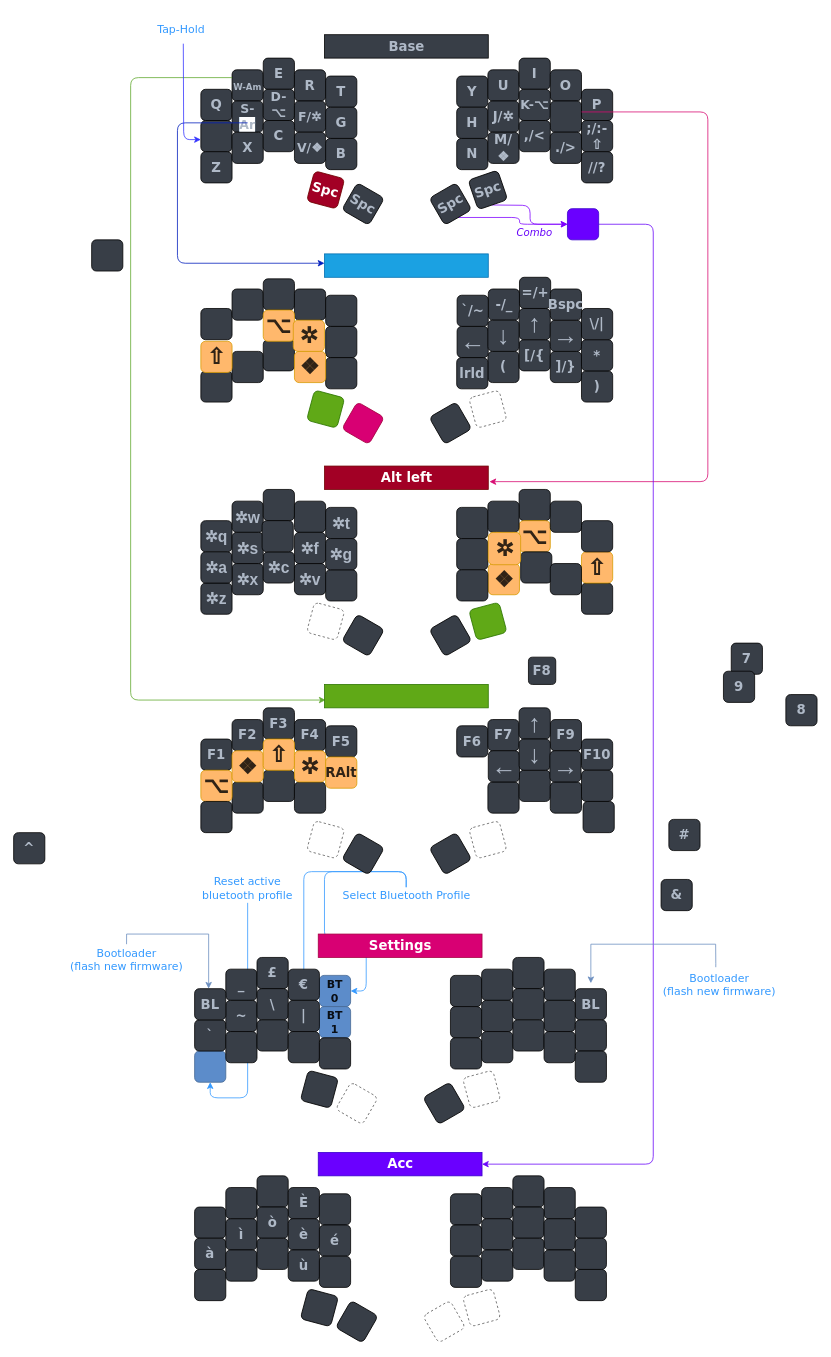
Image size: 831x1357. Some labels were removed from this diagram. The centre of each missing label's shape, as x and y in pixels:
A- ⇧: (216,136)
Alt mouse: (406,696)
Alt right: (406,265)
BT RES: (210,1066)
L-Al: (565,116)
Sett: (583,224)
